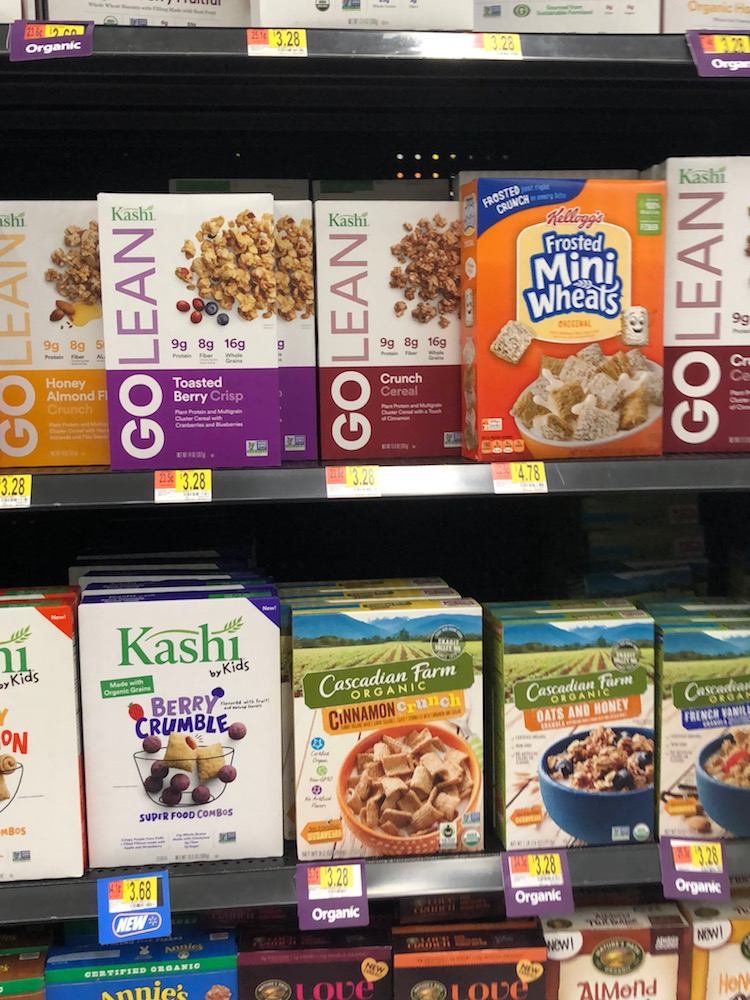Frosted Mini Original -9295869: (466, 187, 662, 462)
